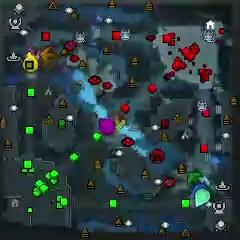p1: (189, 184, 209, 200)
p2: (195, 189, 211, 207)
p3: (98, 116, 116, 136)
p4: (22, 52, 39, 74)
x1: (23, 45, 39, 60)
x2: (115, 118, 125, 131)
x3: (196, 175, 212, 188)
x4: (187, 171, 202, 185)
x5: (39, 46, 57, 66)
